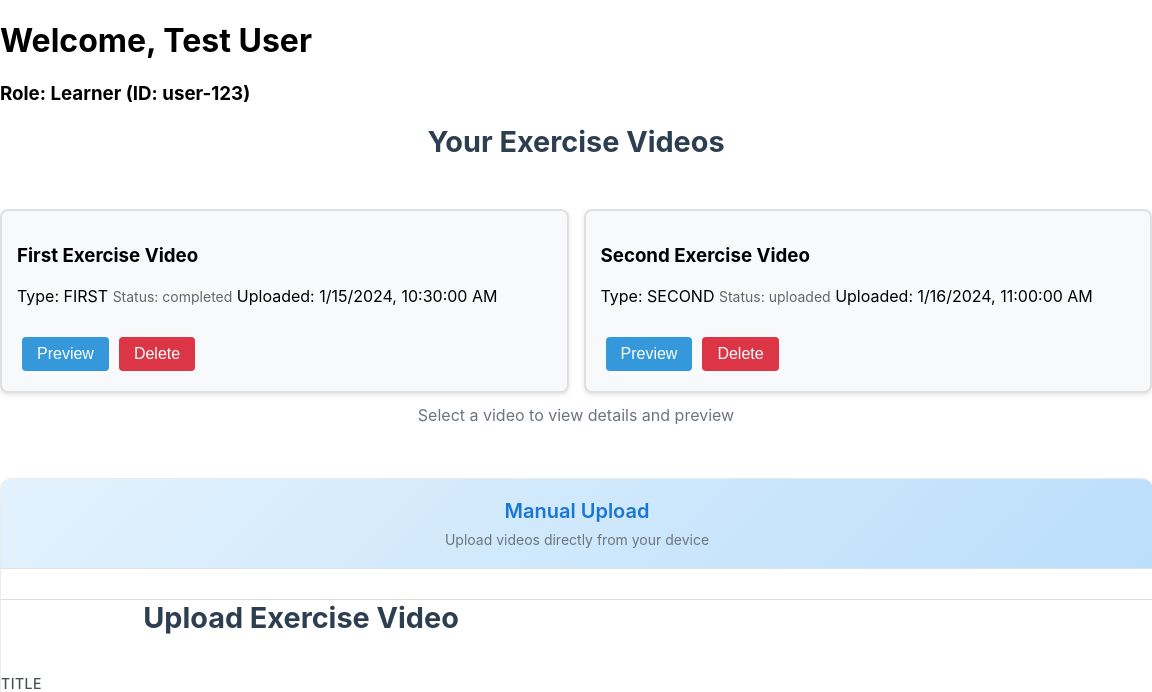
Test: VideoManagement Component › Video Selection › displays video details when selected
This screenshot has width=1152, height=692.
Expected: the heading "First Exercise Video" is shown, [17,244,198,267]
# Select first video
What coordinates should you click on to do the following:
click the button "Preview" below "1/15/2024, 10:30:00 AM"
I would click on:
 (65, 354)
Its box is [22,337,109,371].
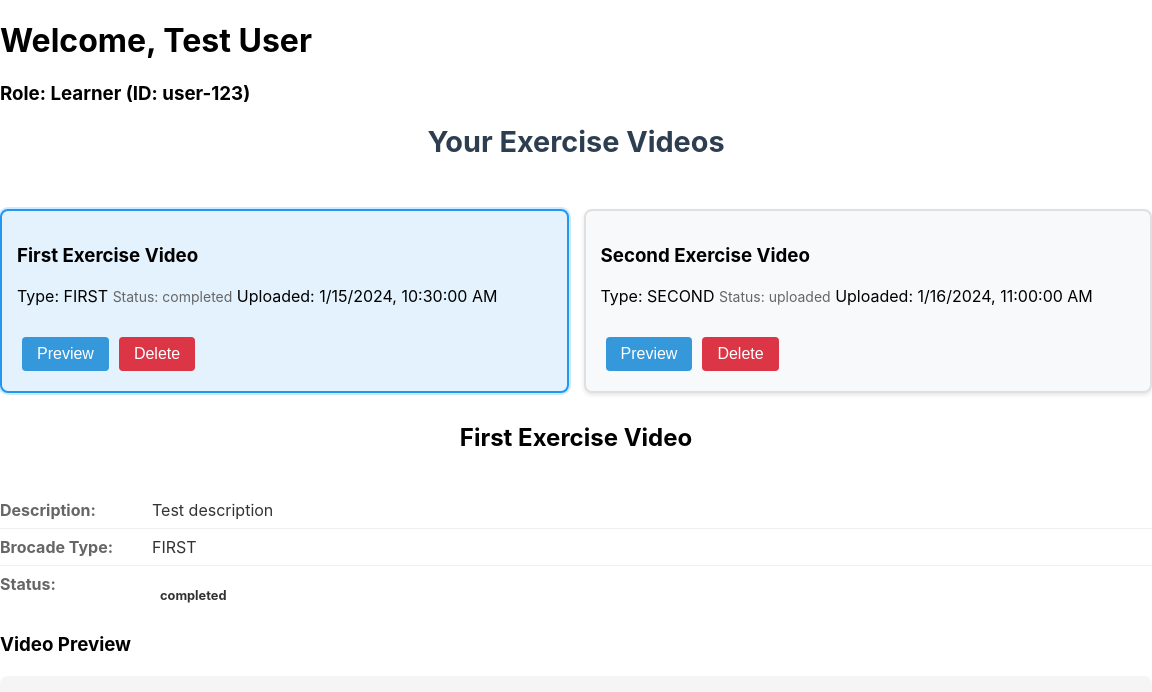
Now the text "Test description" is shown, box [152,500,273,520]
Now the text "FIRST" is shown, box [152,536,197,556]
